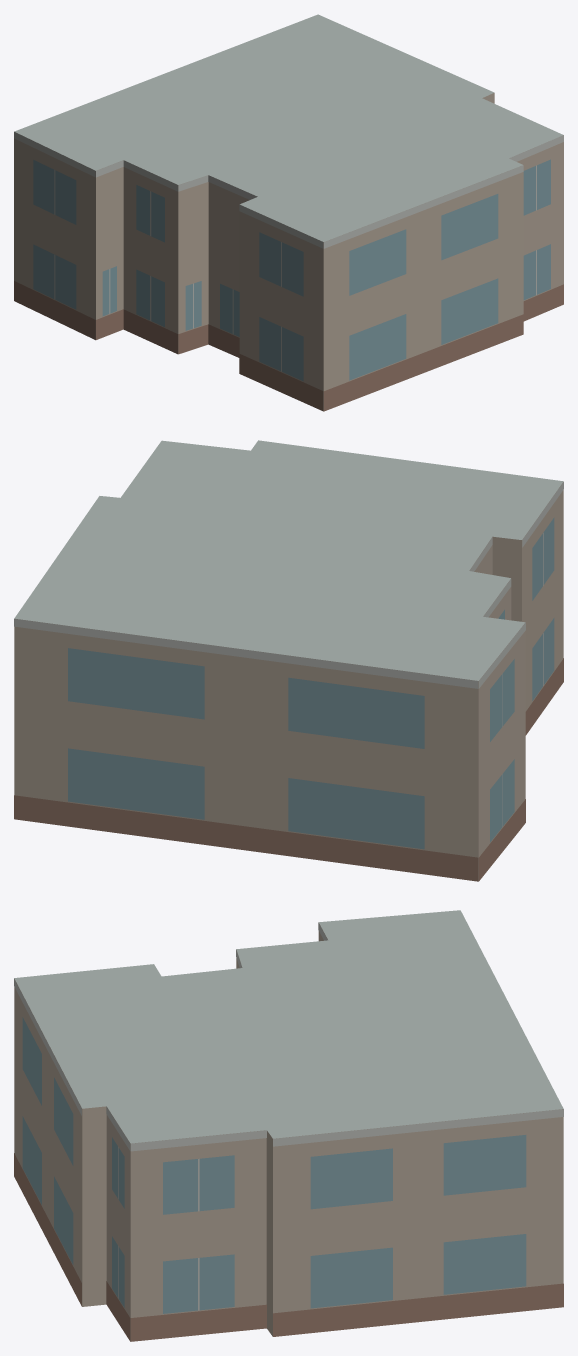
File: survey-upis-32702484.glb
3 views of the same model, one above another, from view 1: azimuth 30°, elevation 25°; view 2: azimuth 150°, elevation 25°; view 3: azimuth 270°, elevation 25° (orthographic). The views are drawn at different scales.
Visible parts, largest first — view 1: survey-upis-32702484.tmp; view 2: survey-upis-32702484.tmp; view 3: survey-upis-32702484.tmp.
Part boxes in pixels (left/top/right/bottom): survey-upis-32702484.tmp: left=14, top=14, right=563, bottom=411; survey-upis-32702484.tmp: left=14, top=440, right=563, bottom=881; survey-upis-32702484.tmp: left=14, top=910, right=563, bottom=1341.
Size of the model in its own units: 15.42 by 6.1 by 15.34.
